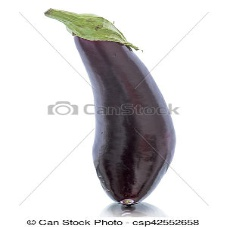eggplant: (67, 22, 177, 215)
